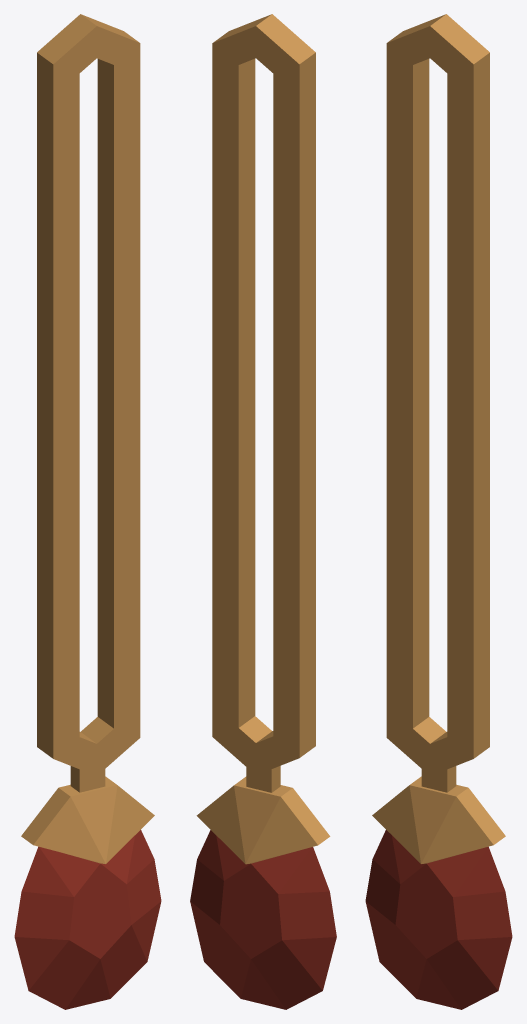
The model's file is kingdom_SM_Item_Necklace_Hanging_02.gltf.
3 renders of one model, left to right at view 1: azimuth 30°, elevation 25°; view 2: azimuth 150°, elevation 25°; view 3: azimuth 330°, elevation 25°, orthographic.
Visible parts, largest first — view 1: SM_Item_Necklace_Hanging_02; view 2: SM_Item_Necklace_Hanging_02; view 3: SM_Item_Necklace_Hanging_02.
Boxes of the visible parts, bbox=[...] form: SM_Item_Necklace_Hanging_02: bbox=[14, 14, 161, 1009]; SM_Item_Necklace_Hanging_02: bbox=[190, 14, 336, 1009]; SM_Item_Necklace_Hanging_02: bbox=[365, 14, 512, 1009].
Bounding box in the file's own units: 0.0706 × 0.4521 × 0.0298.
1 material, 1 textured.
